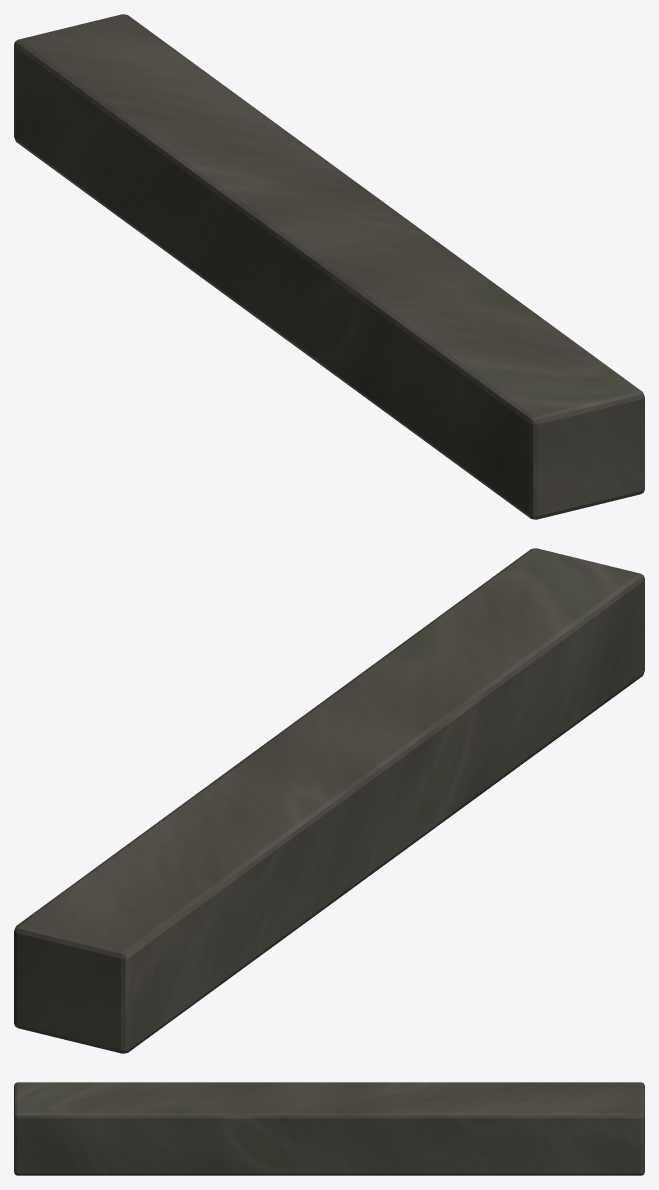
File: lf_arrow_tip-lod1.gltf
The picture shows the model from 3 angles, top to bottom: view 1: azimuth 30°, elevation 25°; view 2: azimuth 150°, elevation 25°; view 3: azimuth 270°, elevation 25°; orthographic projection. The views are drawn at different scales.
Parts seen in each view (by area): view 1: lf_arrow_tip LOD1 lf_arrow_tip; view 2: lf_arrow_tip LOD1 lf_arrow_tip; view 3: lf_arrow_tip LOD1 lf_arrow_tip.
Boxes of the visible parts, x1,y1,x2,y2 form: lf_arrow_tip LOD1 lf_arrow_tip: (14, 14, 644, 519); lf_arrow_tip LOD1 lf_arrow_tip: (14, 548, 644, 1053); lf_arrow_tip LOD1 lf_arrow_tip: (14, 1082, 644, 1175).
Bounding box in the file's own units: 0.07 × 0.06 × 0.55.
1 material, 1 textured.
